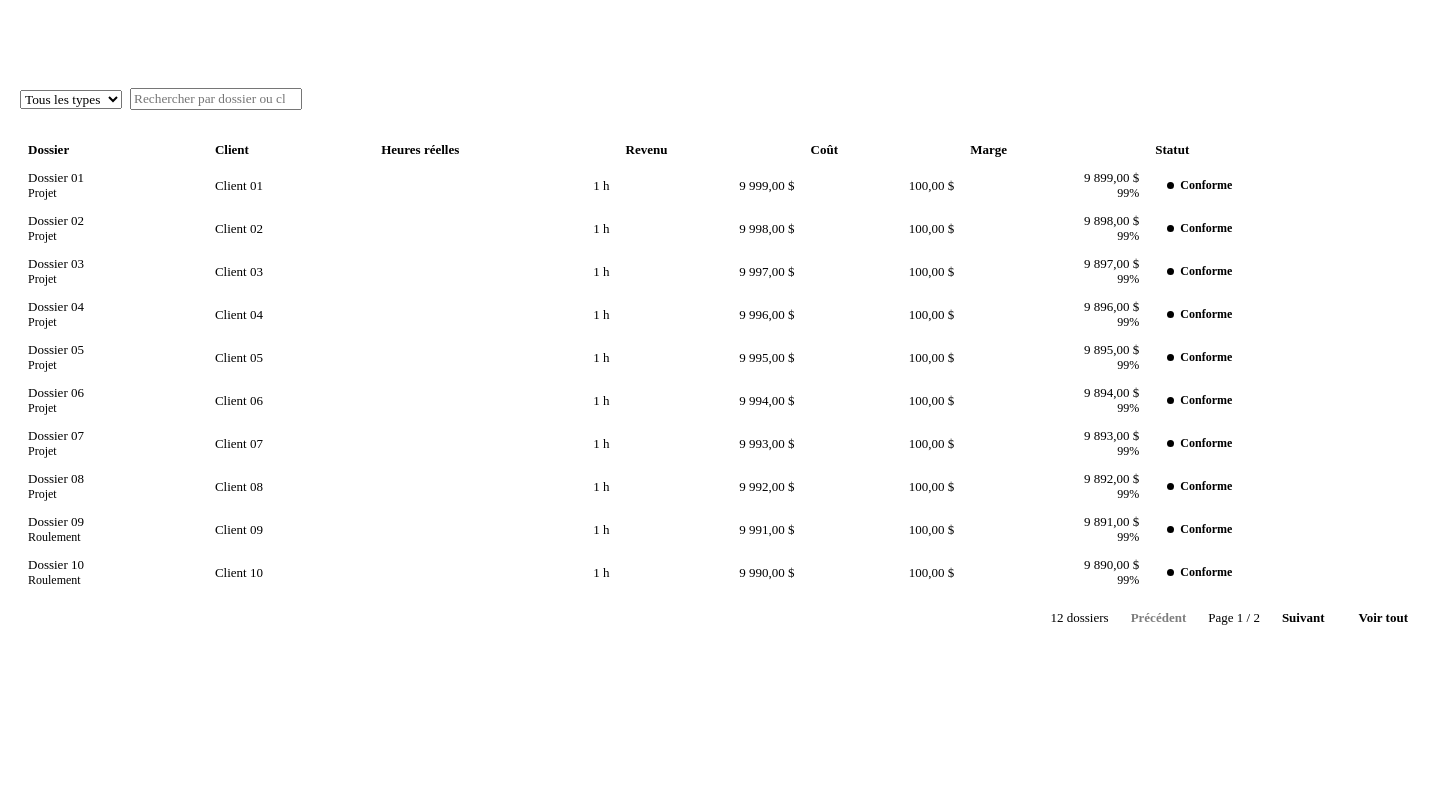
Test case: ReportsPage — pagination, filtre par type, recherche du comparatif › le bouton Voir tout affiche toutes les lignes sans pagination
Expected: the text "Client 01" is shown, [207, 164, 373, 207]
What coordinates should you click on to do the following:
click the button "Voir tout"
I would click on:
 (1383, 618)
Its box is [1346, 604, 1420, 632].
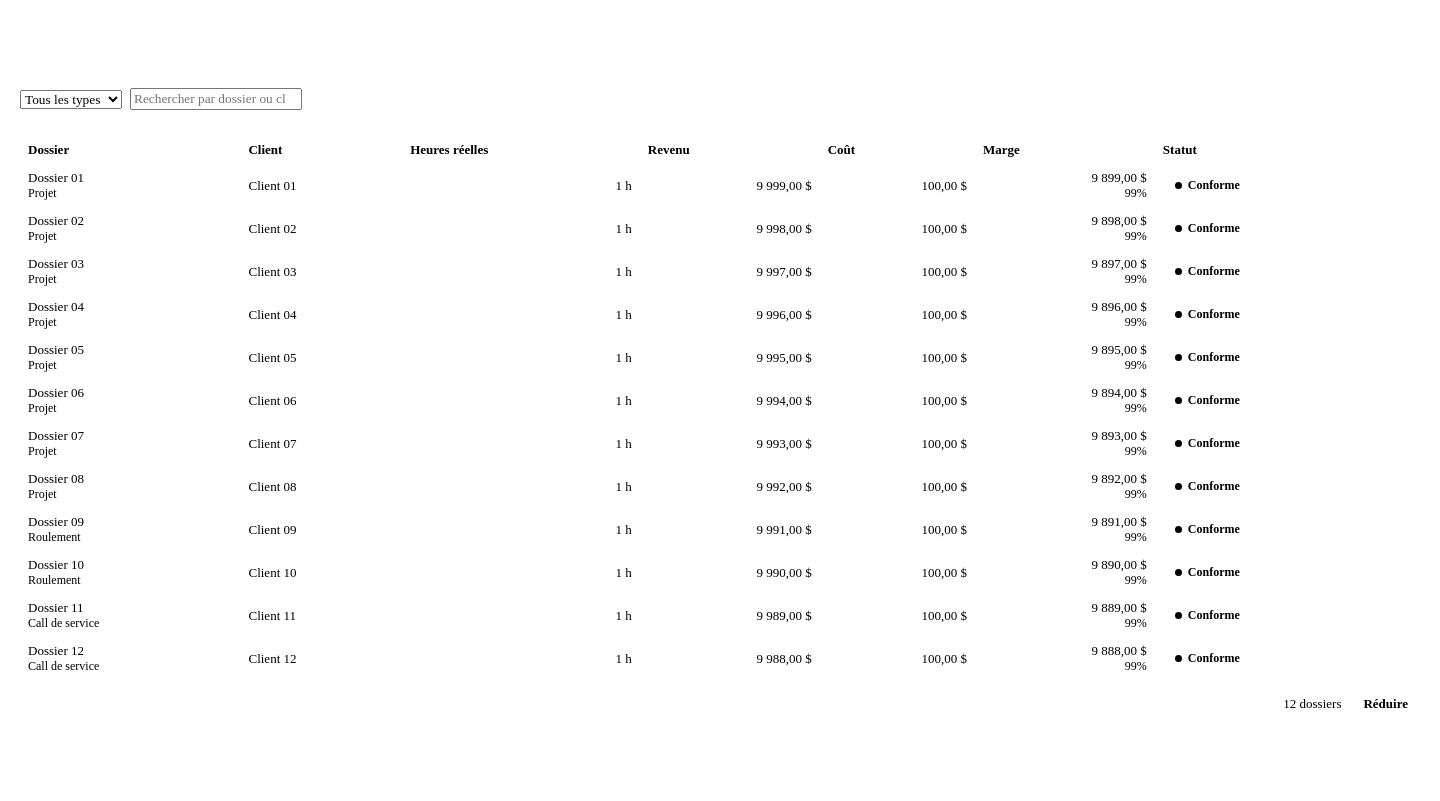
Expected: the text "Client 12" is shown, [240, 637, 402, 680]
Expected: the button "Suivant" is gone
Expected: the button "Réduire" is shown, [1352, 690, 1420, 718]
